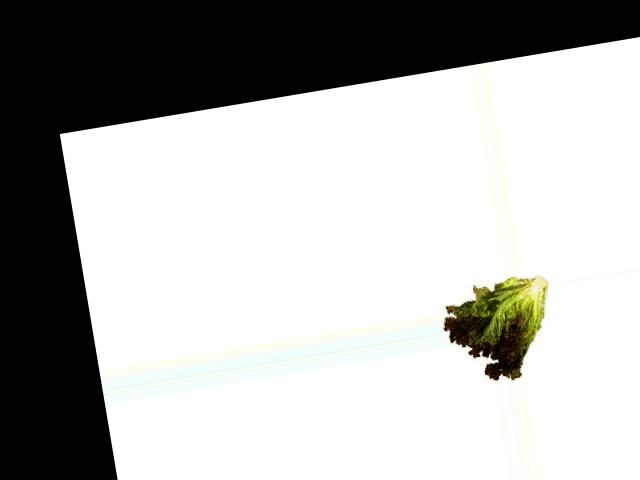lettuce: (437, 273, 560, 388)
